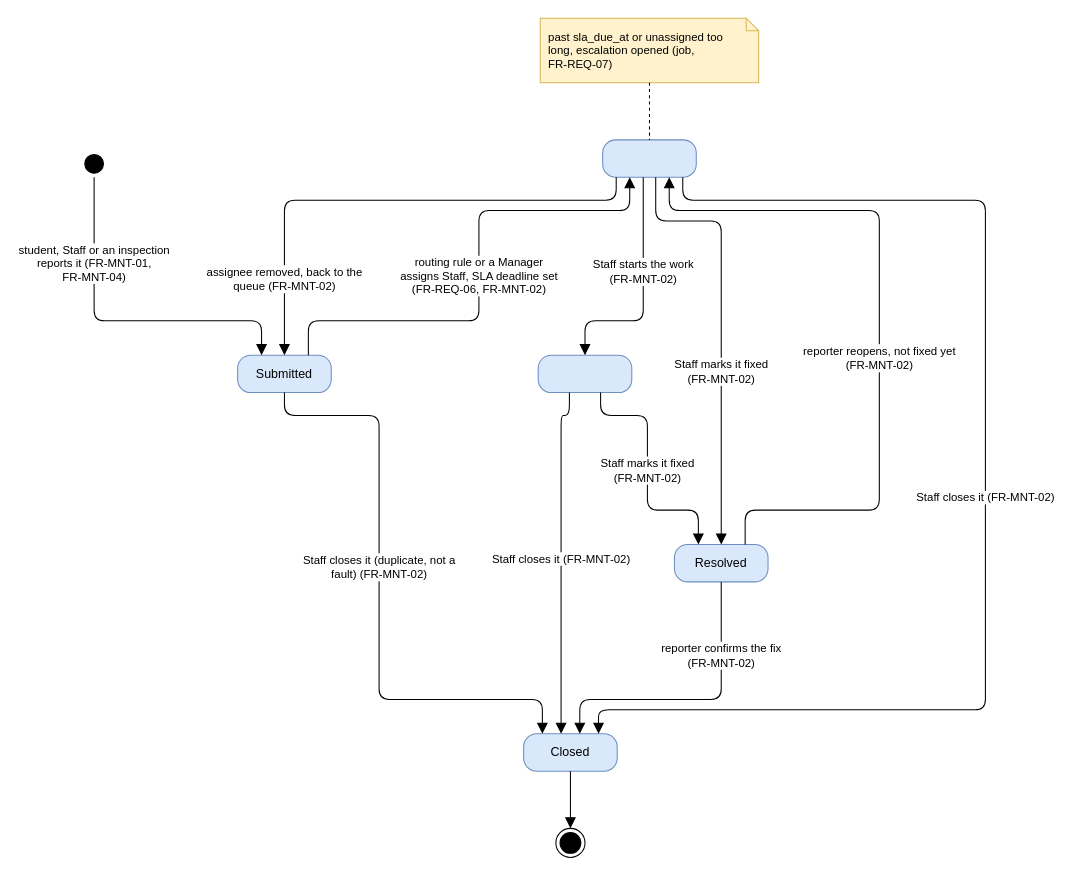
Some shapes in this 1072 by 876 pixel diagram are drawn without their labels. The shapes that lost their labels are listed below. From the top down, each one's centre as x and y in pixels, then its label:
At point 649,158: "Assigned".
At point 584,373: "In progress".
